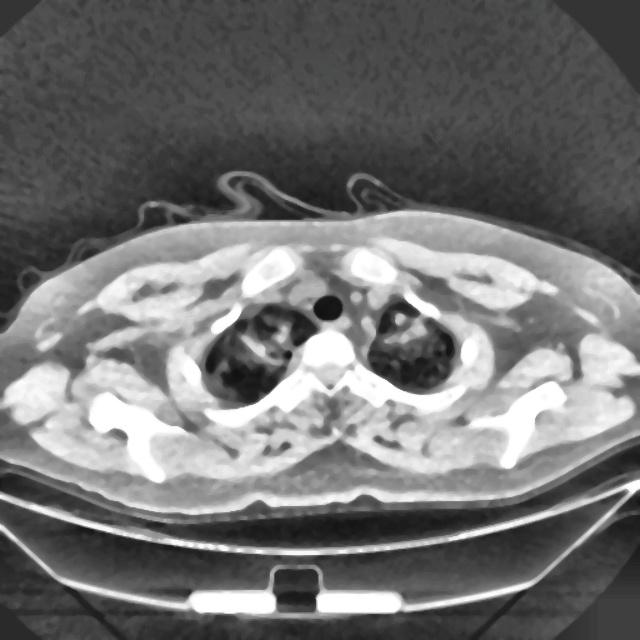covid: (1, 185, 638, 526)
